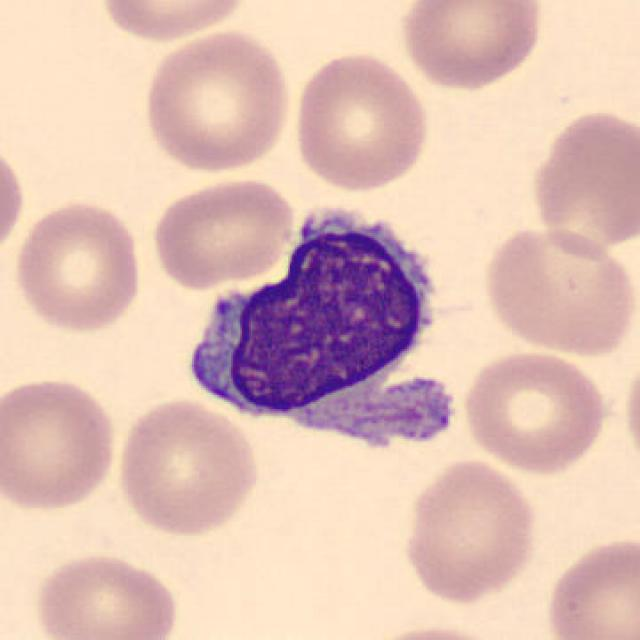Lymphocyte: (178, 194, 455, 469)
RBC: (139, 27, 295, 176), (478, 222, 636, 360), (398, 455, 542, 606), (112, 395, 263, 539), (290, 48, 434, 194), (458, 346, 612, 478), (11, 196, 148, 335), (148, 173, 298, 291), (524, 104, 638, 259), (0, 372, 121, 515), (30, 548, 183, 640), (397, 0, 548, 92), (540, 530, 639, 640), (94, 0, 254, 46), (0, 137, 28, 260), (356, 622, 516, 640), (620, 348, 640, 474)
